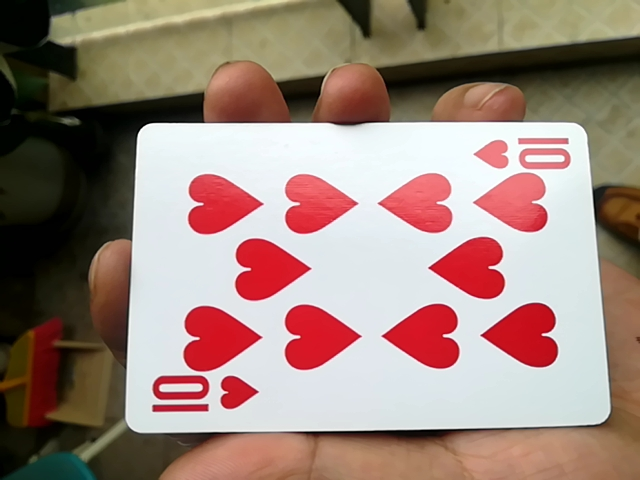hx 10: (117, 126, 603, 448)
